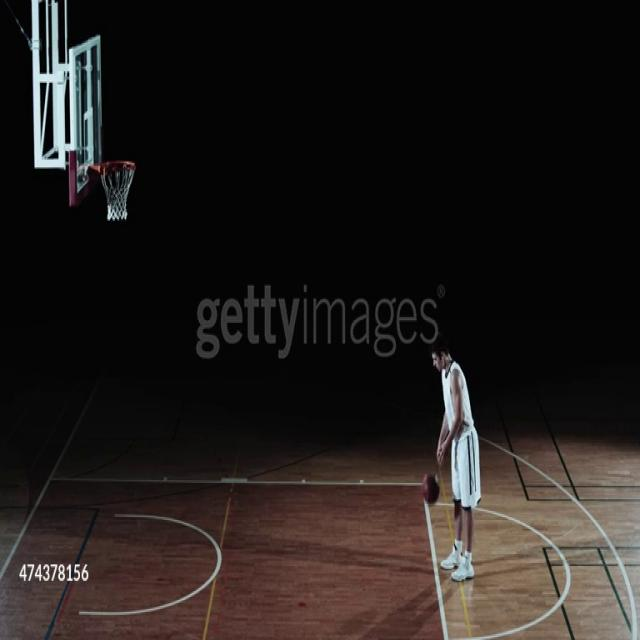ball: (422, 473, 440, 505)
